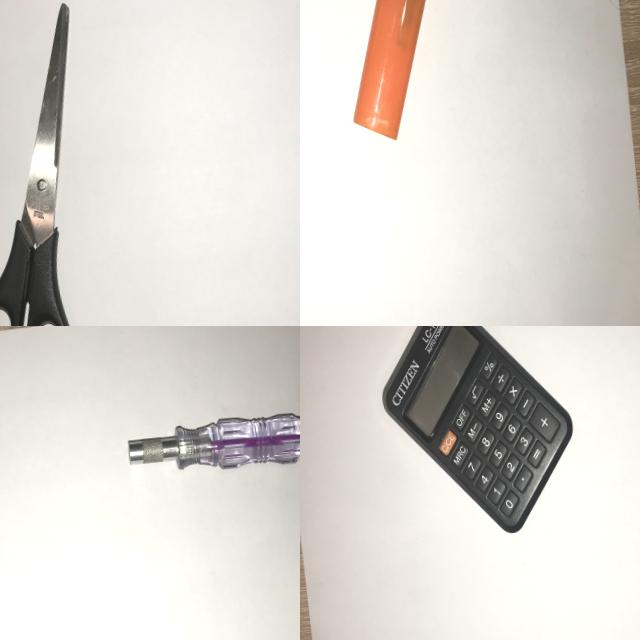calculator: (368, 326, 591, 552)
lighter: (328, 0, 464, 152)
scissors: (0, 0, 114, 326)
screwdriver: (120, 397, 300, 487)
